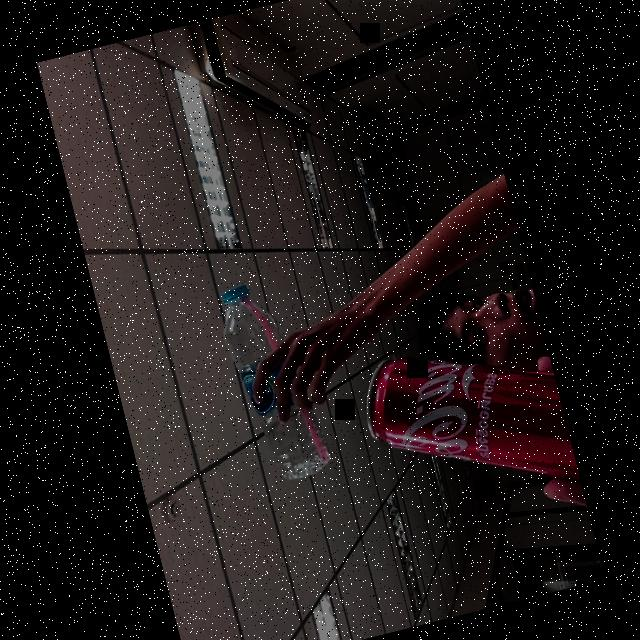can: (347, 311, 580, 528)
plastic_bottle: (204, 264, 338, 490)
plastic_bottle_cap: (218, 284, 248, 304)
straw: (255, 302, 328, 470)
